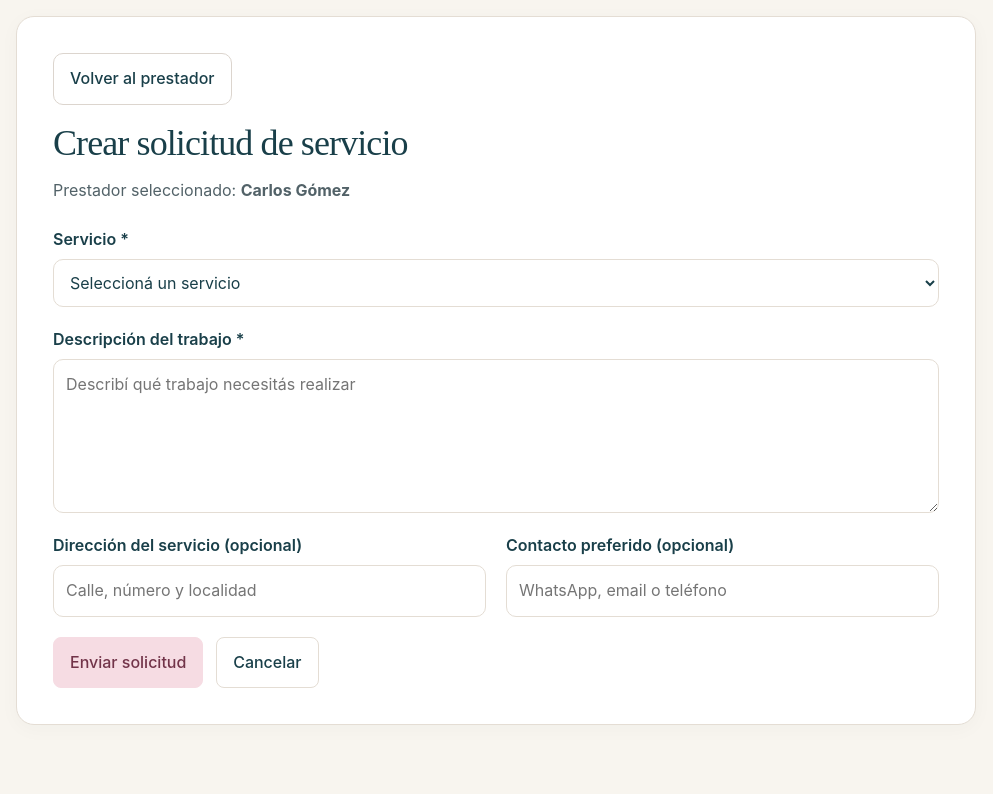
Test: F-11 - Formulario de solicitud › muestra errores cuando faltan campos obligatorios
Click the button "Enviar solicitud": x=128, y=662 [53,637,203,688]
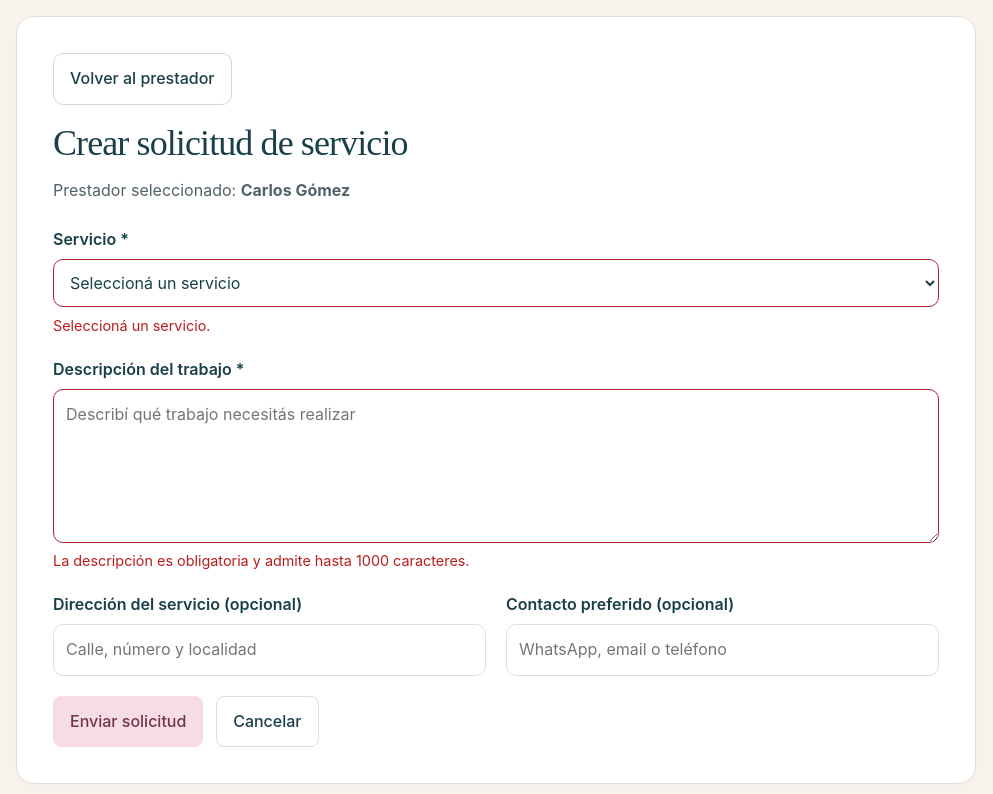
Expected: the text "Seleccioná un servicio." is shown, [53,317,210,334]
Expected: the text "La descripción es obligatoria" is shown, [53,552,470,569]
